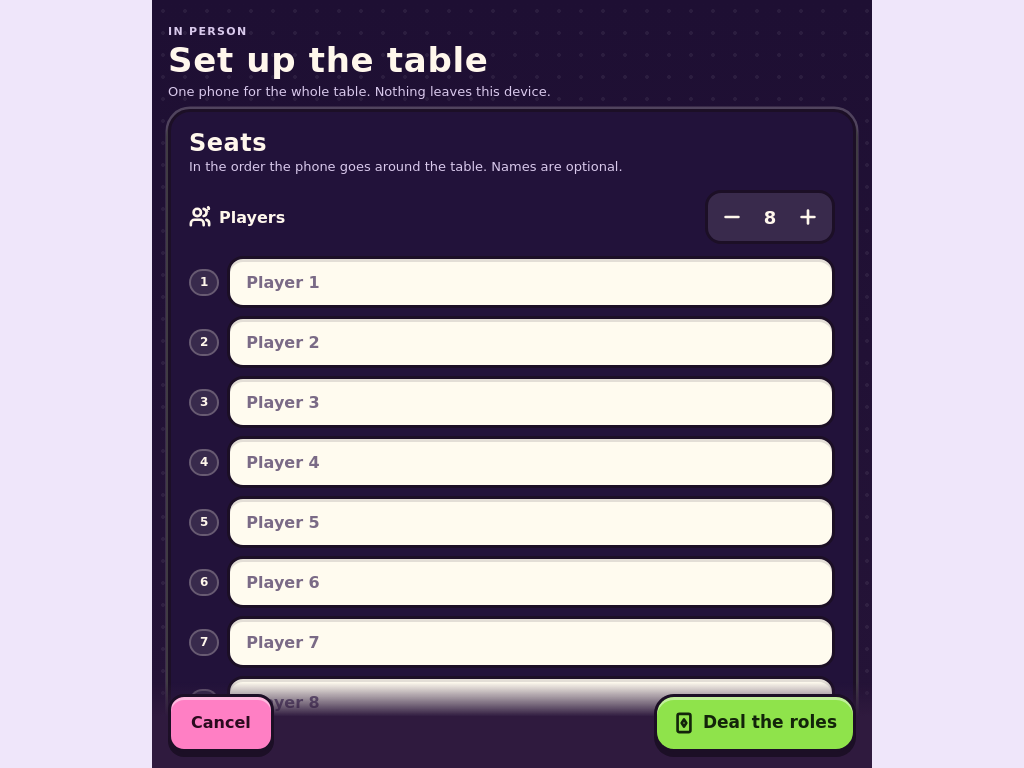
Test: TableSetupView › Same name twice: the later seat shows name-taken and dealing is off
Type "Ana" into the field with placeholder "Player 2" at point(531, 342), box x1=227 y1=316 x2=835 y2=368
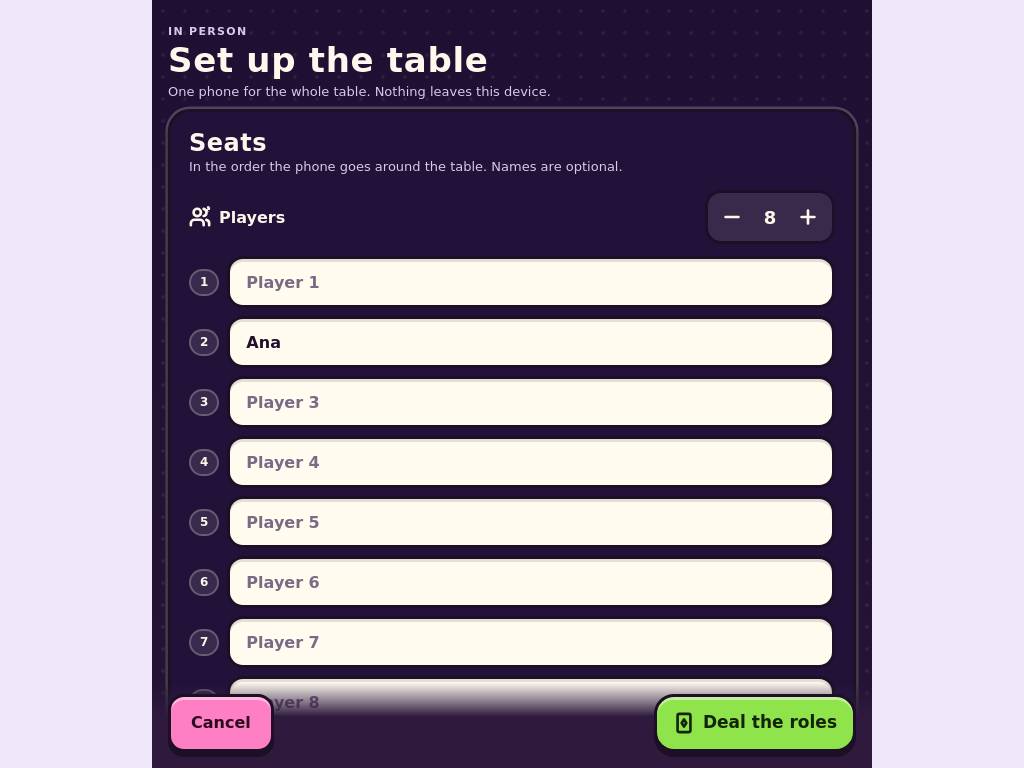
Type "ana" into the field with placeholder "Player 5" at point(531, 522), box x1=227 y1=496 x2=835 y2=548
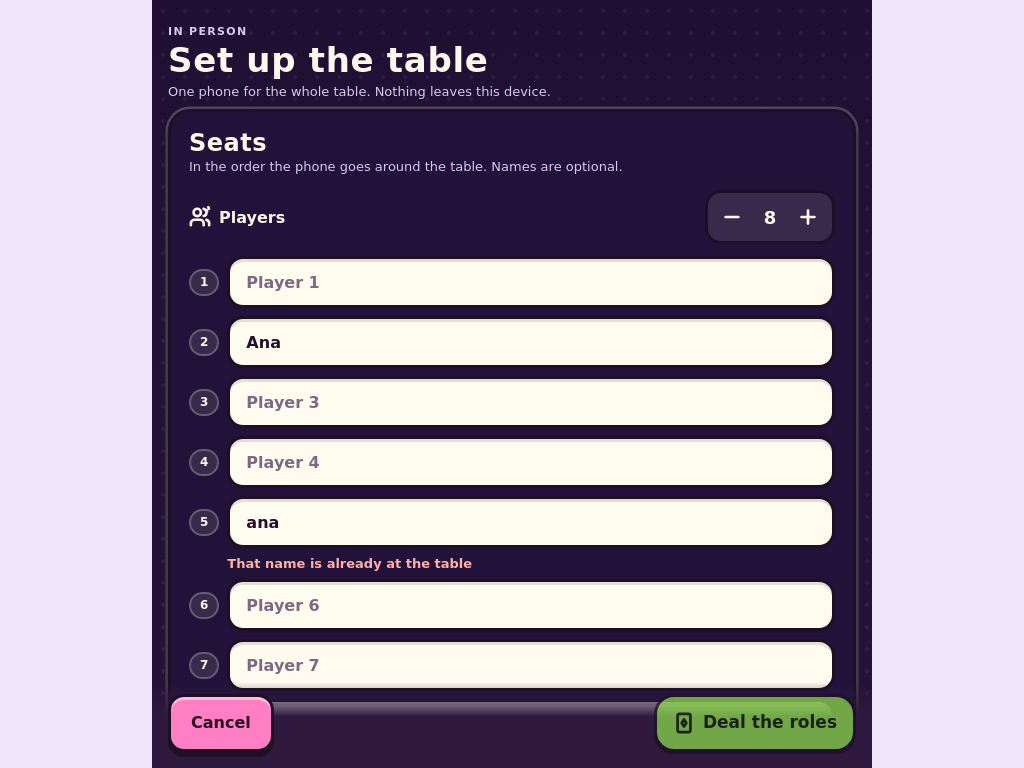
Expected: the list item with class "table-setup-name" shows "That name is already at the table", x1=227 y1=556 x2=472 y2=572
Expected: the button "Deal the roles" is disabled, x1=654 y1=694 x2=856 y2=752
